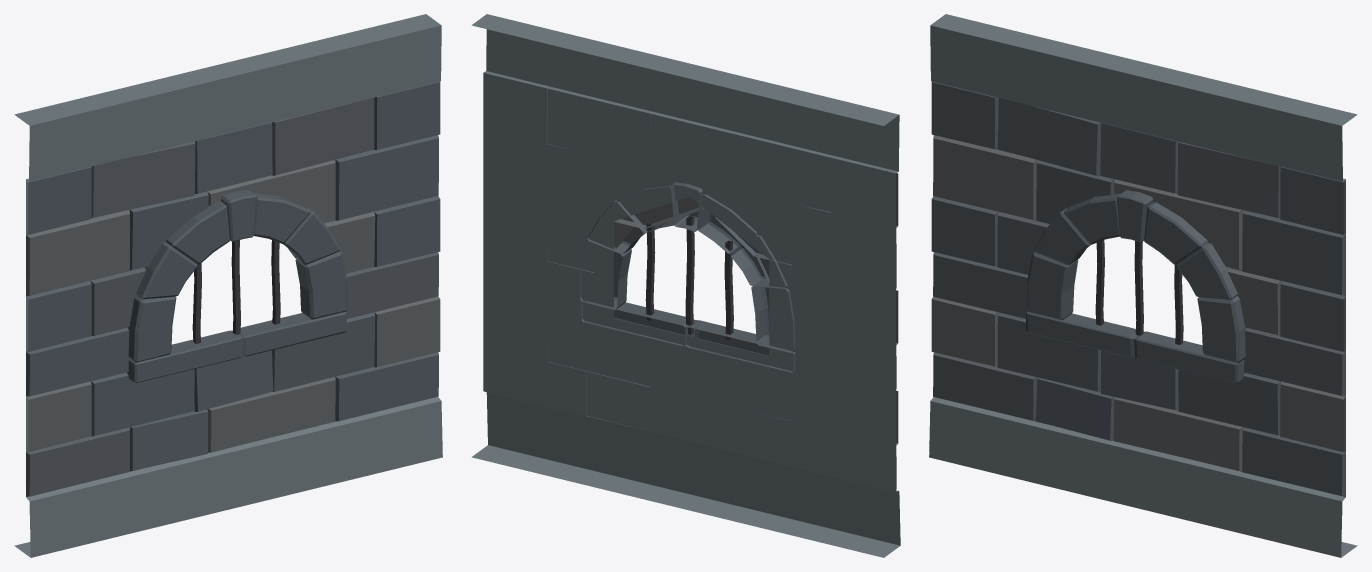
The model's file is wall_3.glb.
3 renders of one model, left to right at view 1: azimuth 30°, elevation 25°; view 2: azimuth 150°, elevation 25°; view 3: azimuth 330°, elevation 25°, orthographic.
Visible parts, largest first — view 1: Wall_Window_Bars; view 2: Wall_Window_Bars; view 3: Wall_Window_Bars.
Part boxes in pixels (<box>): Wall_Window_Bars: <box>14,14,442,557</box>; Wall_Window_Bars: <box>471,14,900,557</box>; Wall_Window_Bars: <box>929,14,1357,557</box>.
Size of the model in its own units: 2 by 2 by 0.1876.
1 material, 1 textured.
